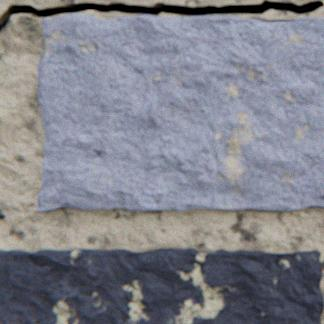brick: (39, 13, 323, 211), (0, 247, 323, 323)
broken_brick: (0, 208, 6, 218)
crack: (0, 0, 323, 32)
